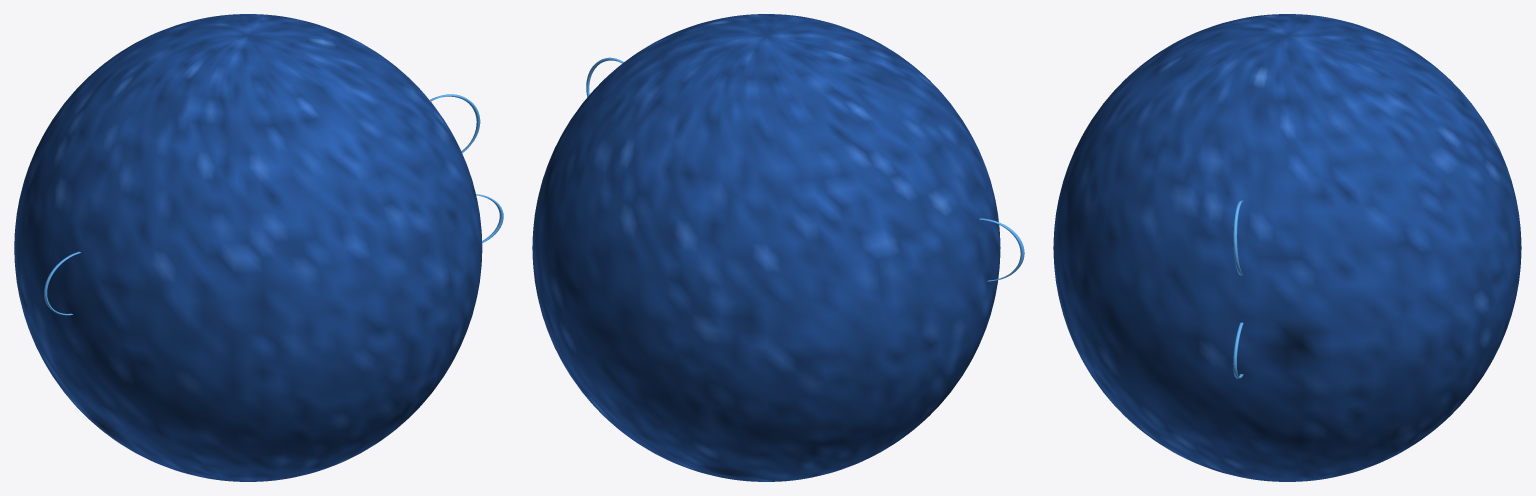
File: Star_01.fbx
3 renders of one model, left to right at view 1: azimuth 30°, elevation 25°; view 2: azimuth 150°, elevation 25°; view 3: azimuth 270°, elevation 25°, orthographic.
Parts seen in each view (by area): view 1: Star_01; view 2: Star_01; view 3: Star_01.
Part boxes in pixels (x1,y1,x2,y2): Star_01: [14, 14, 503, 481]; Star_01: [532, 14, 1024, 481]; Star_01: [1053, 14, 1521, 481].
Bounding box in the file's own units: 227 × 200 × 200.
